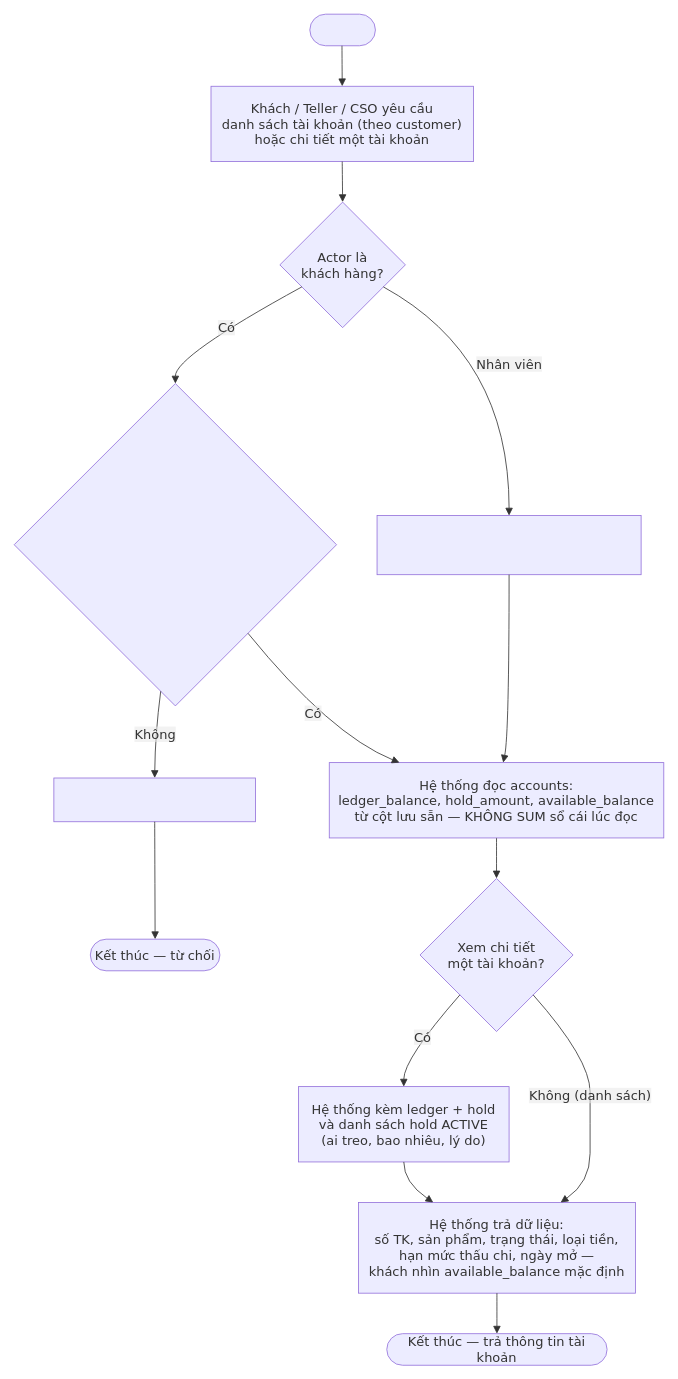
Some shapes in this 678 by 1379 pixel diagram are drawn without their labels. Here are the shapes that lost their labels. From the top down, the centre of each, then its label:
At point (342, 29): "Bắt đầu".
At point (175, 544): "Khách đứng tên / đồng chủ tài khoản (theo account_holders, BR-ACCT-03-3)?".
At point (508, 545): "Hệ thống ghi audit tra cứu tài khoản người khác (BR-ACCT-04-2)".
At point (154, 799): "Hệ thống từ chối truy cập".
